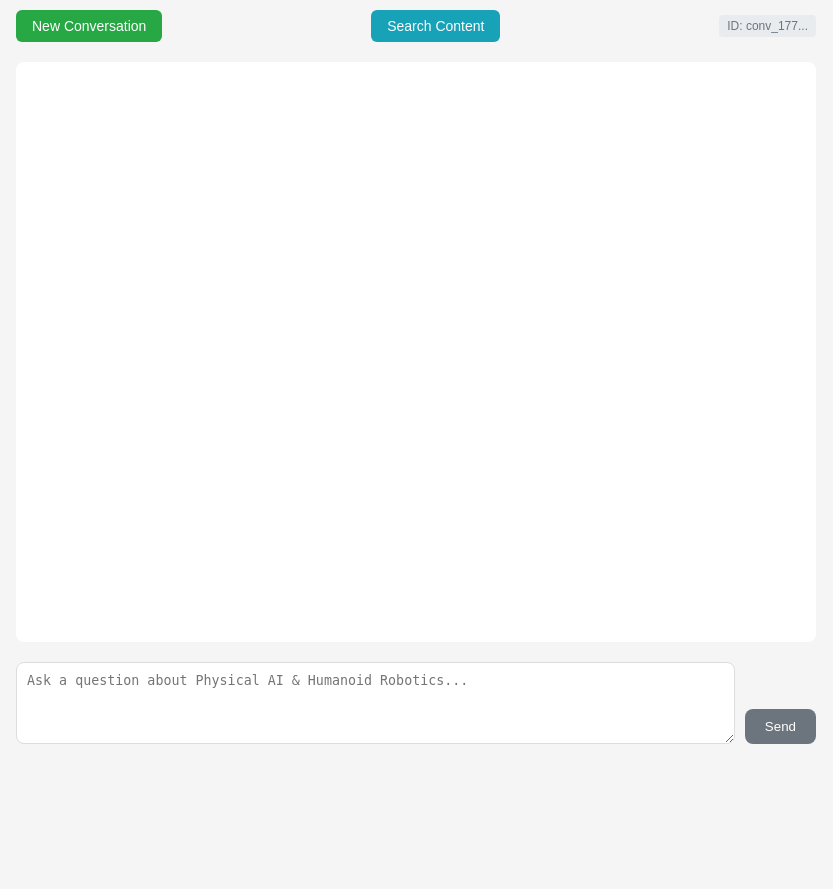
it: ChatInterface Component › allows searching for content
(page scrolled)
// Toggle search panel
Click the button "Search Content" at (436, 26), box [371,10,500,42]
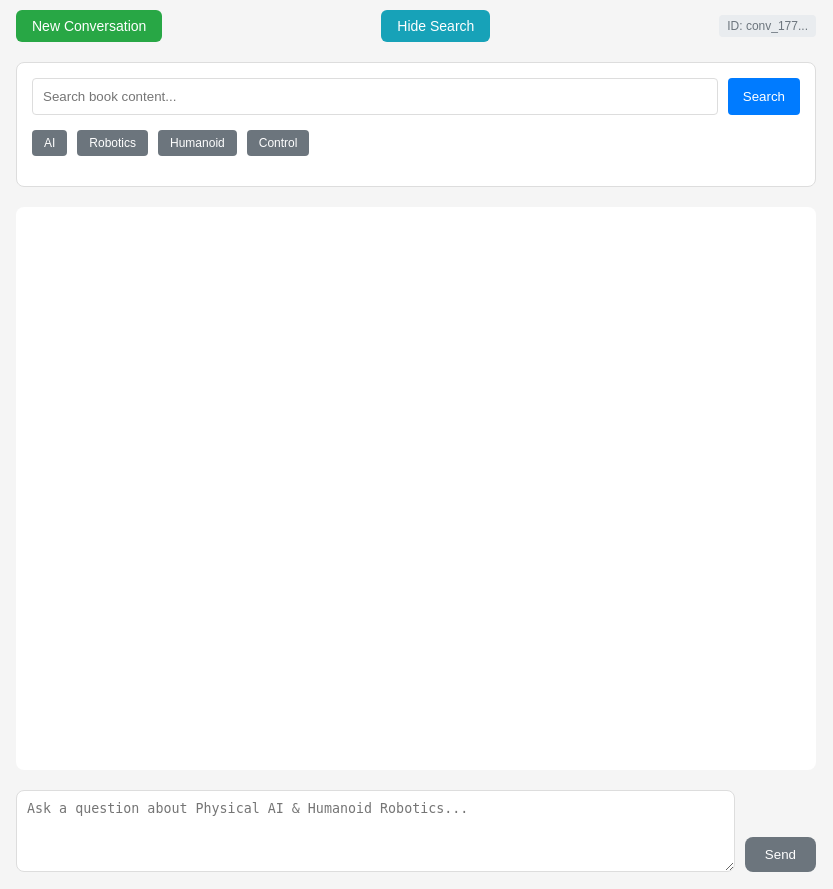
// Enter search query and click search
Type "test search" into the field with placeholder "Search book content..." at (375, 96), box [32,78,718,115]
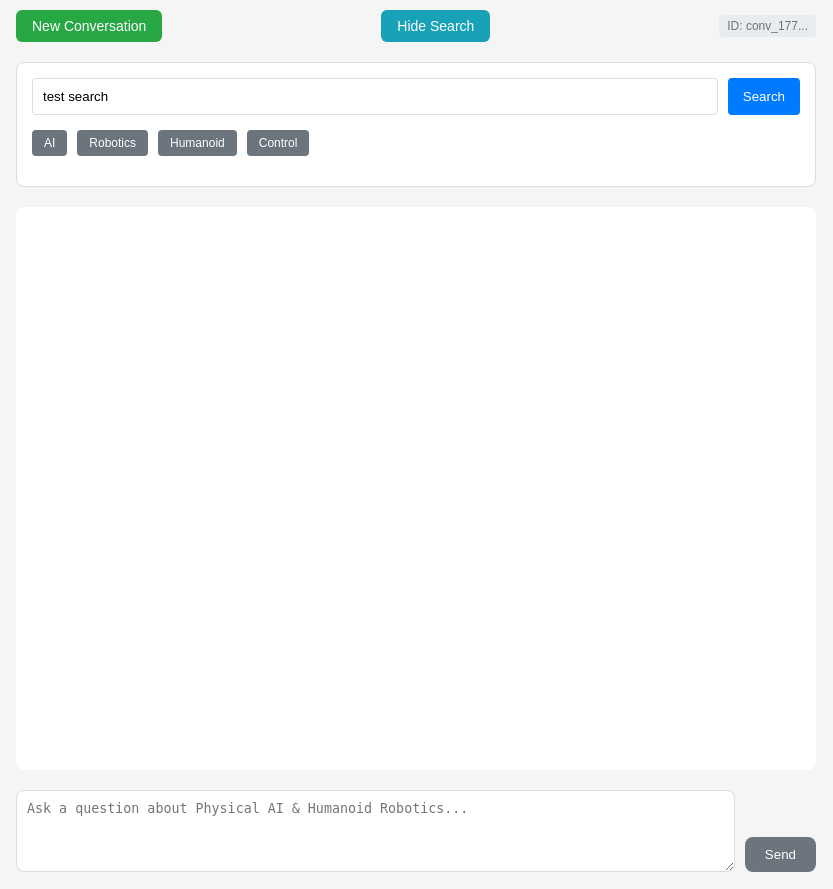
Click the button "Search" at (764, 96), box [728,78,800,115]
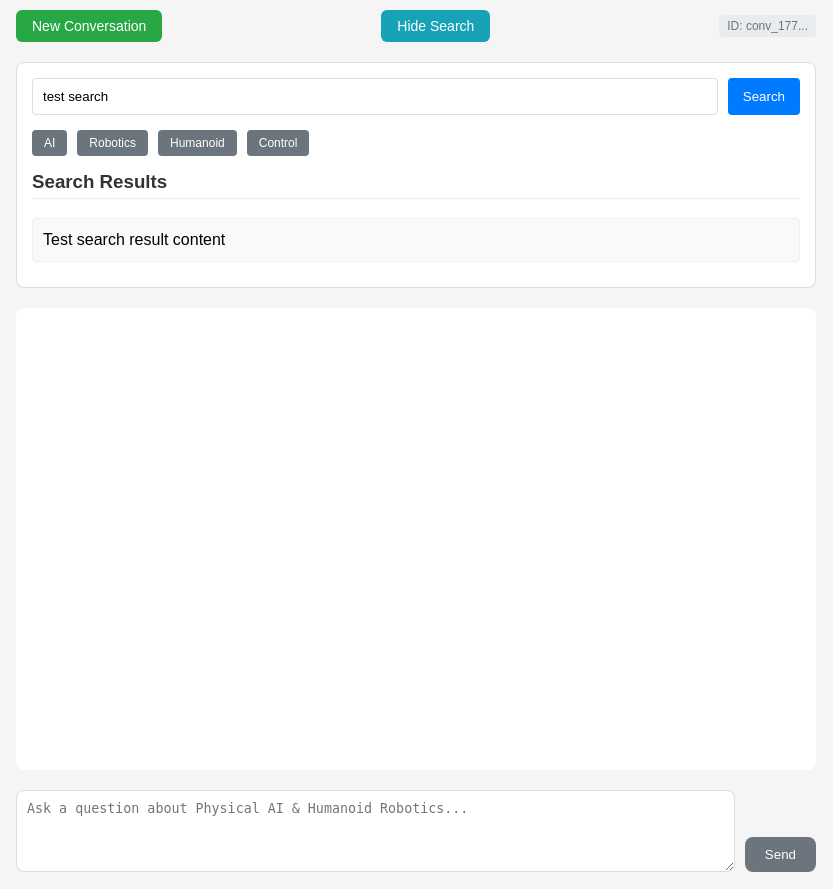
Now the text "Test search result content" is shown, box [43,231,225,248]
